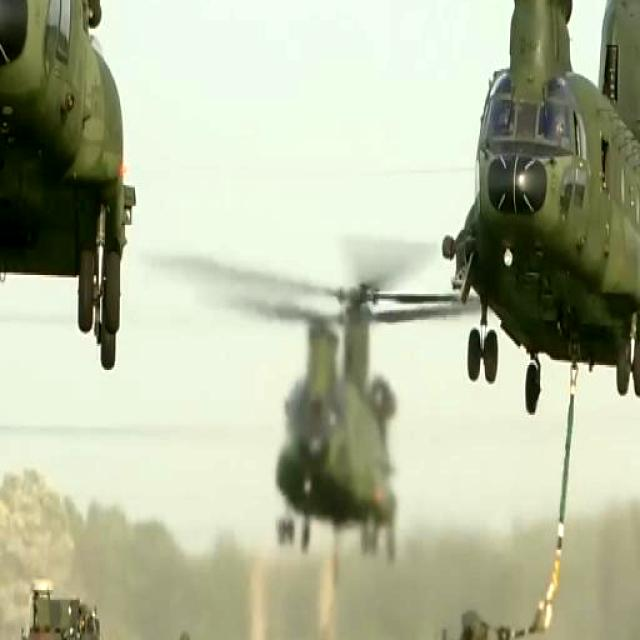drone: (458, 0, 640, 434), (244, 222, 406, 559)
